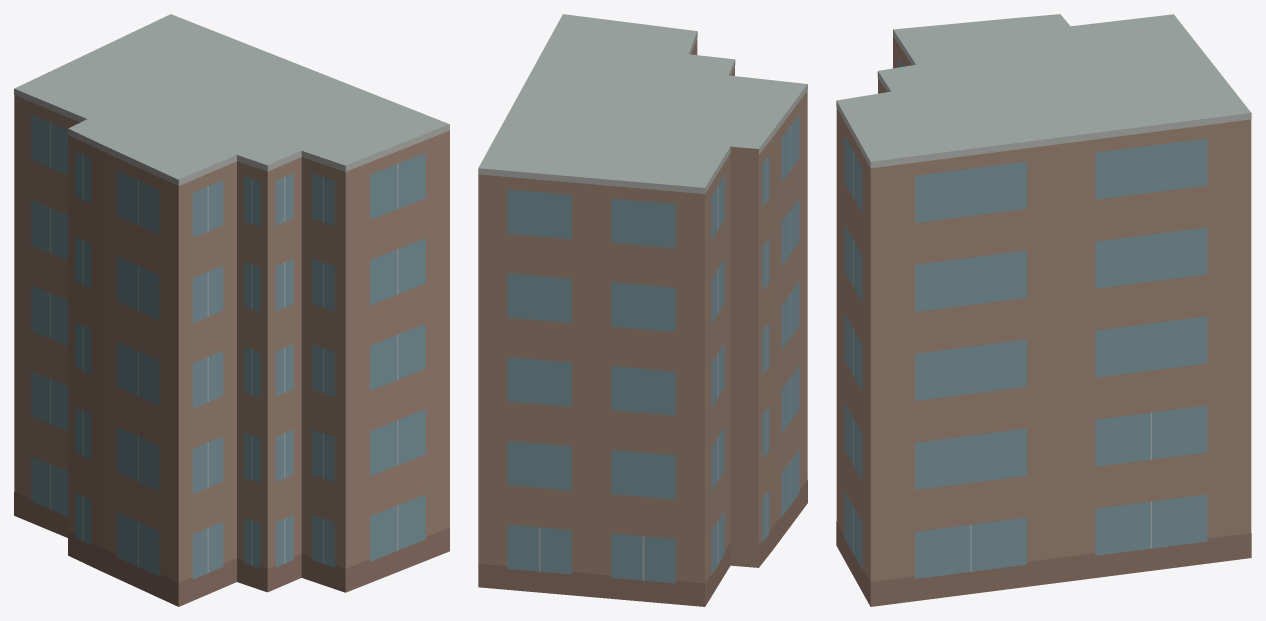
Rendered from survey-upis-32881637.glb.
3 renders of one model, left to right at view 1: azimuth 30°, elevation 25°; view 2: azimuth 150°, elevation 25°; view 3: azimuth 270°, elevation 25°, orthographic. The views are drawn at different scales.
Parts seen in each view (by area): view 1: survey-upis-32881637.tmp; view 2: survey-upis-32881637.tmp; view 3: survey-upis-32881637.tmp.
Part boxes in pixels (x1,y1,x2,y2): survey-upis-32881637.tmp: (14, 14, 449, 606); survey-upis-32881637.tmp: (478, 14, 807, 606); survey-upis-32881637.tmp: (836, 14, 1251, 606).
Size of the model in its own units: 11.83 by 16.6 by 14.04.
